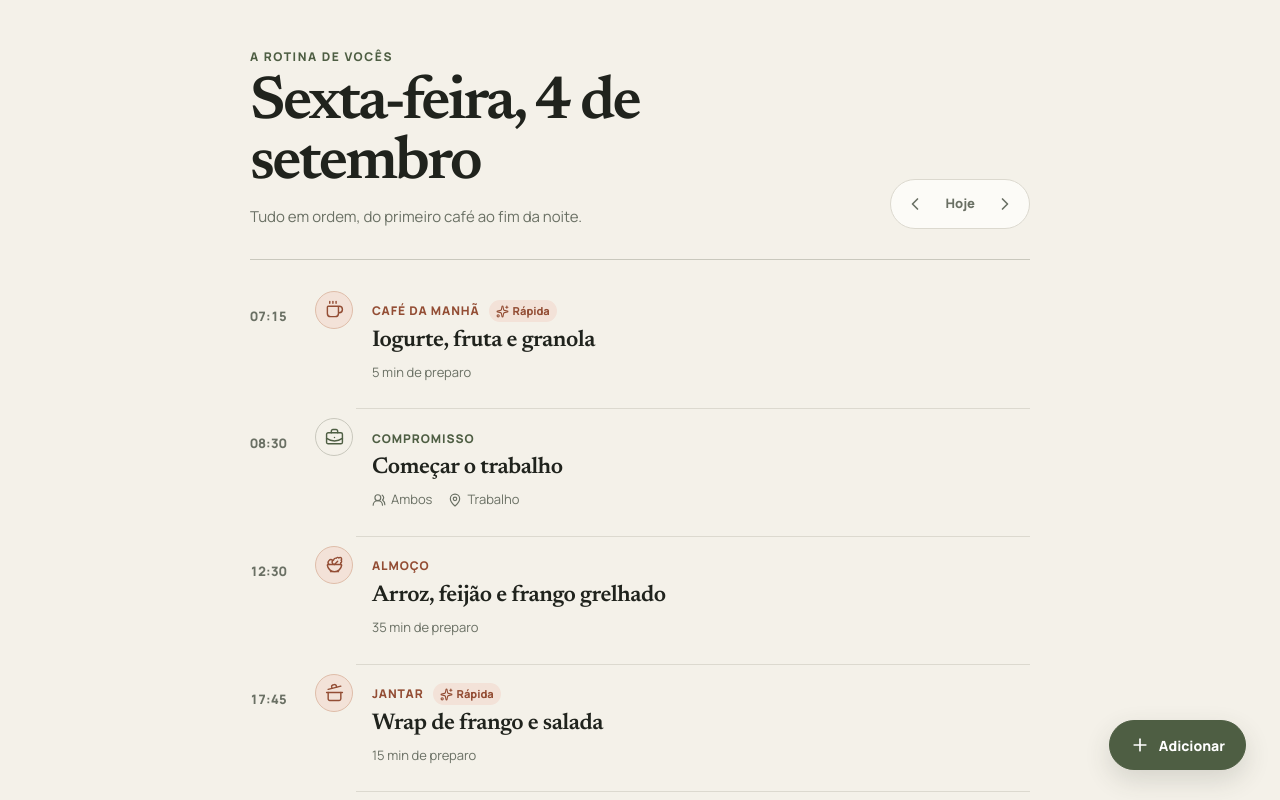
TimelineView › navigates to a day without plans and explains the empty state
Click the button named "Próximo dia". click: (1005, 204)
box: [985,184,1025,224]
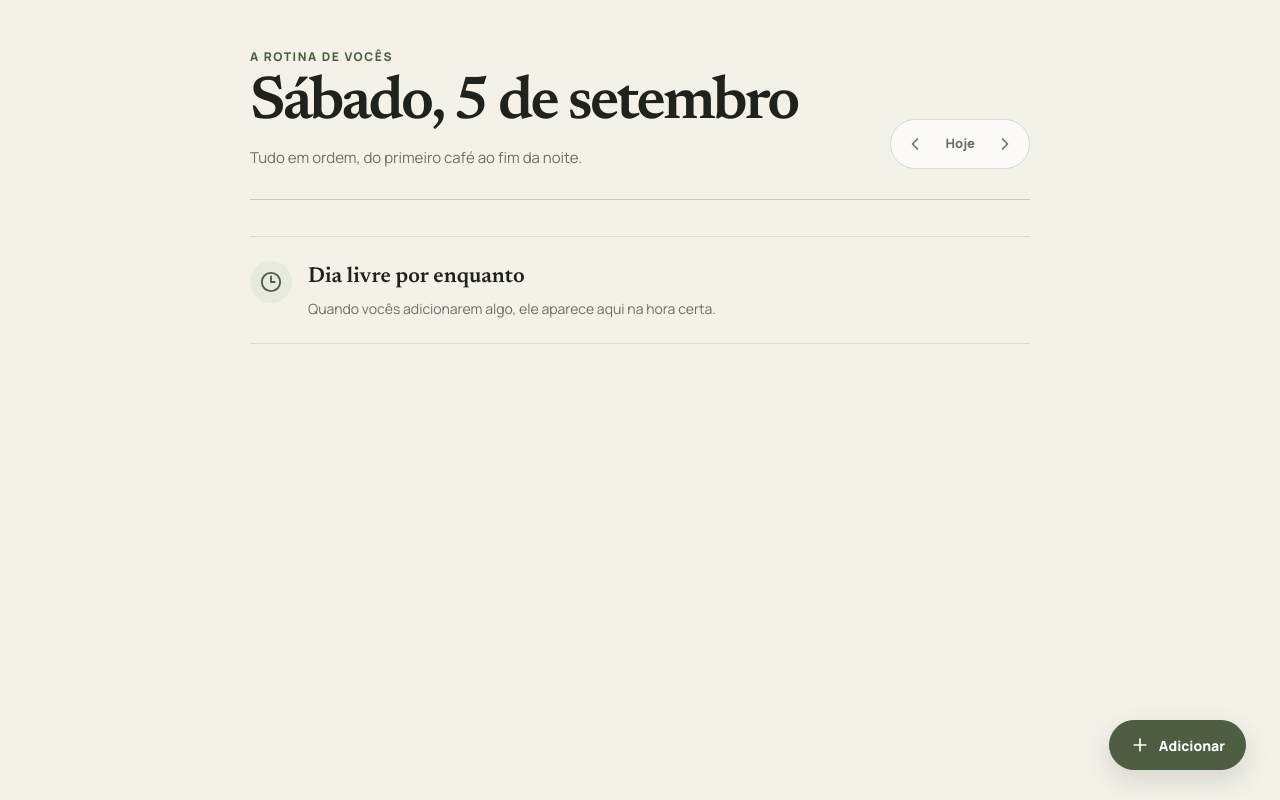
Check: the heading "Sábado, 5 de setembro" is shown, box [250,74,798,134]
Check: the heading "Dia livre por enquanto" is shown, box [308,266,525,288]
